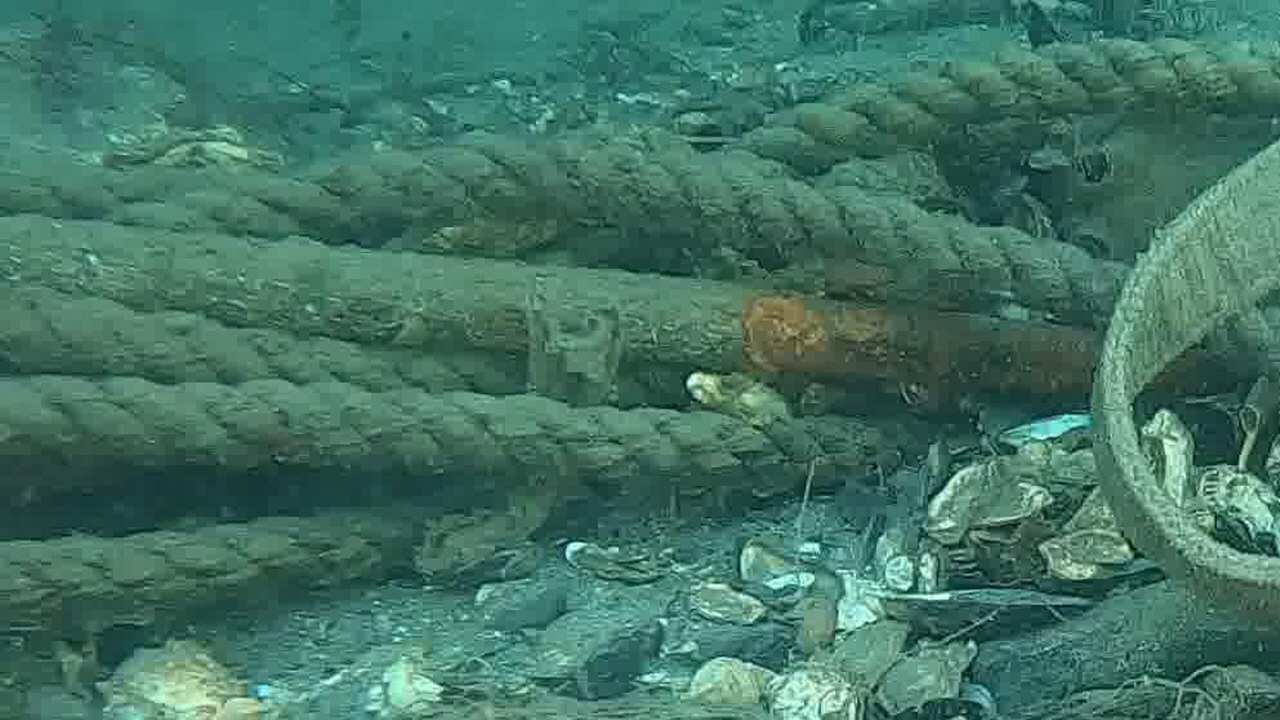bundle of ropes: (0, 32, 1279, 638)
